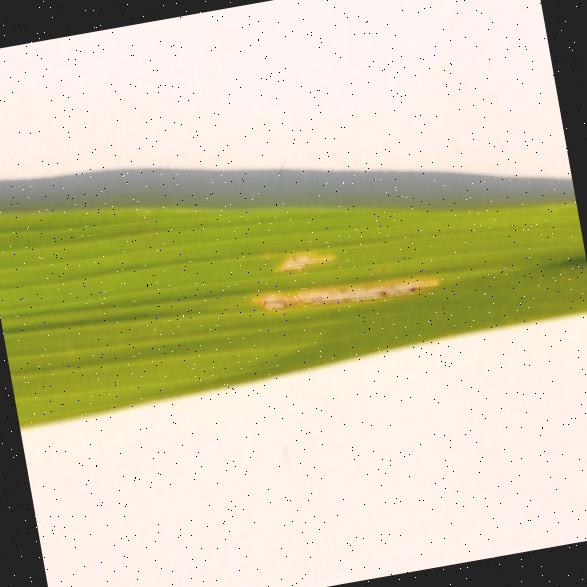Bacteria_Leaf_Blight: (218, 181, 462, 344)
